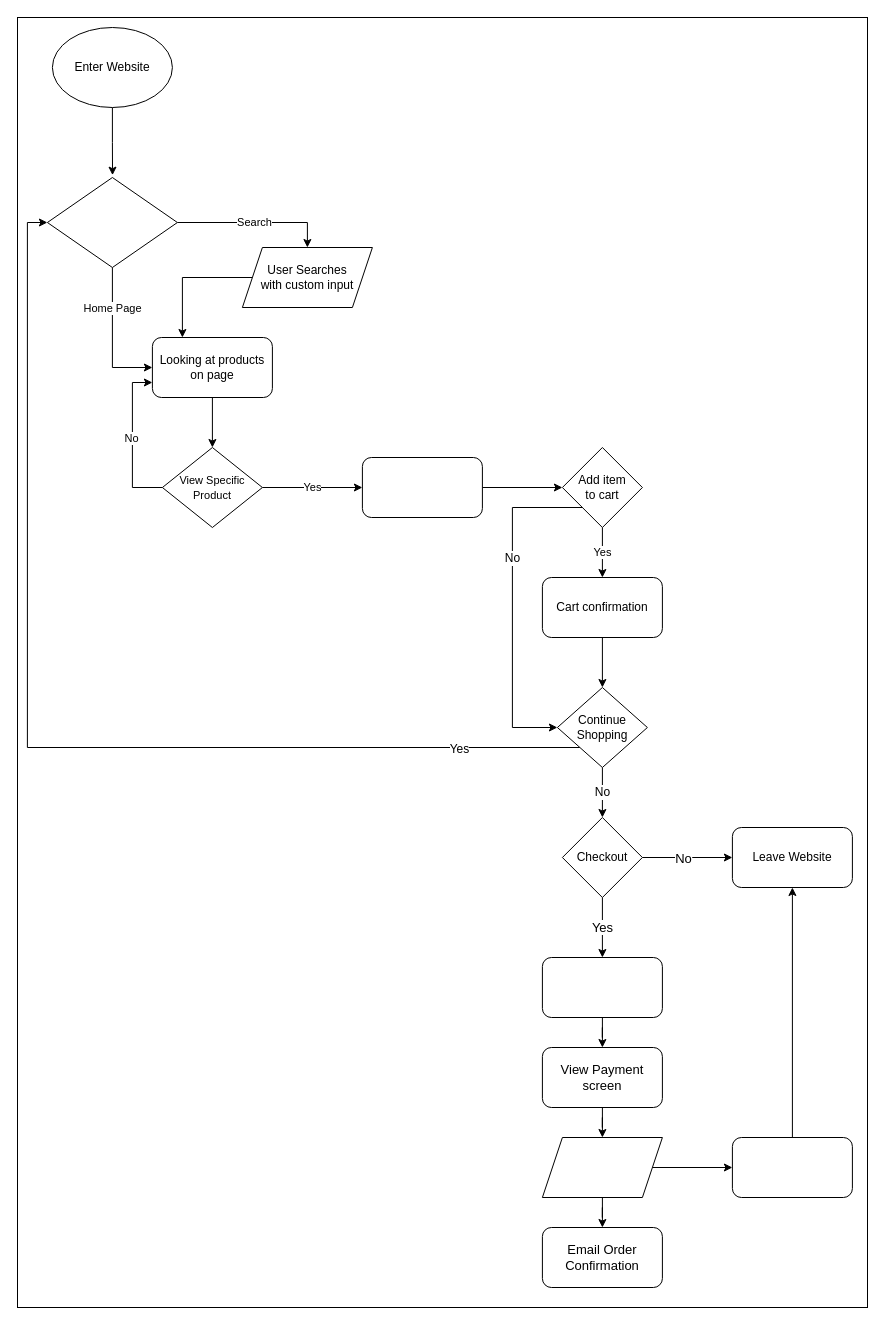
This 885x1325 diagram has some shape labels left out. The centre of each missing label's shape, as x and y in pixels:
User Payment Info Input: (601,1167)
User Search for Product: (111,222)
View Cart screen: (601,987)
View Order Confirmation screen: (791,1167)
View Product Page: (421,487)
